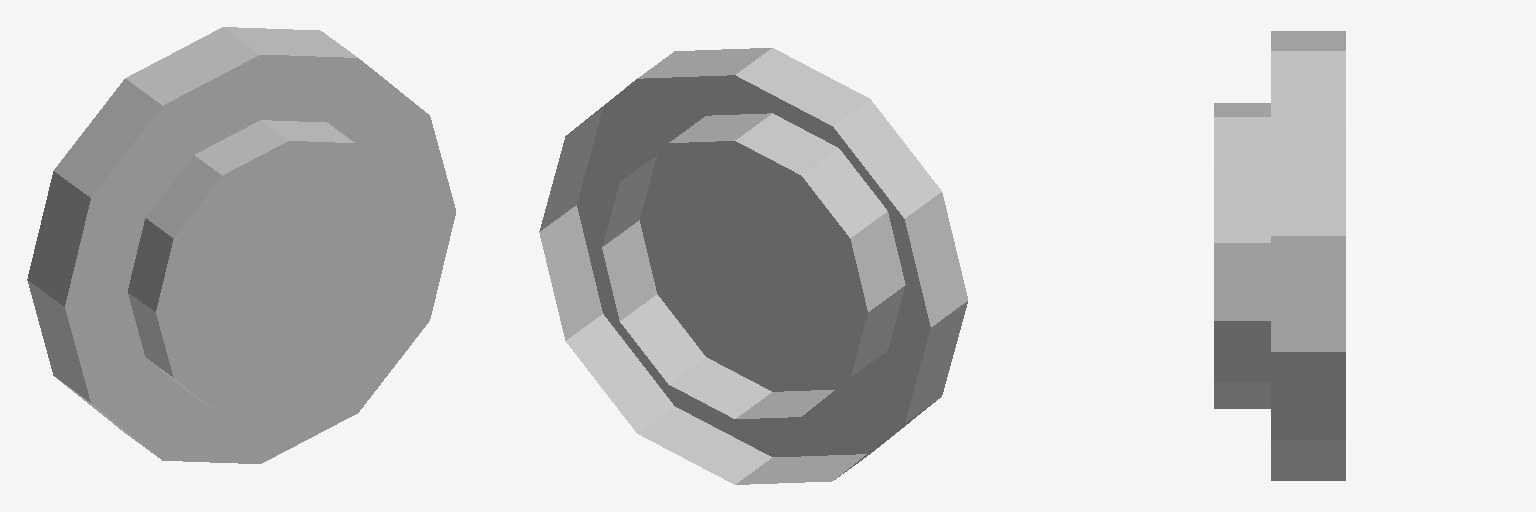
File: CircleButton.obj
3 views of the same model, side by side, from view 1: azimuth 30°, elevation 25°; view 2: azimuth 150°, elevation 25°; view 3: azimuth 270°, elevation 25° (orthographic).
Parts seen in each view (by area): view 1: CircleButton-Housing, CircleButton-Button; view 2: CircleButton-Housing, CircleButton-Button; view 3: CircleButton-Housing, CircleButton-Button.
Boxes of the visible parts, x1,y1,x2,y2 form: CircleButton-Housing: [27, 27, 455, 463]; CircleButton-Button: [128, 120, 421, 418]; CircleButton-Housing: [539, 48, 967, 484]; CircleButton-Button: [602, 113, 905, 418]; CircleButton-Housing: [1271, 31, 1345, 480]; CircleButton-Button: [1214, 103, 1270, 408].
Size of the model in its own units: 0.6 by 0.6 by 0.1749.